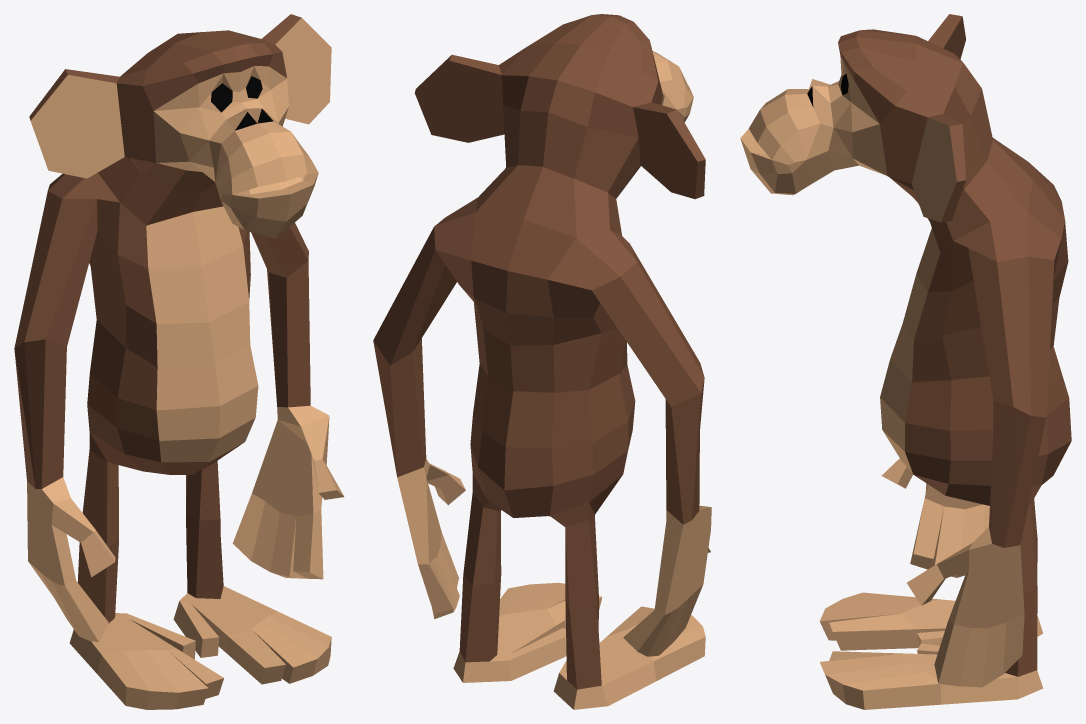
File: Monkey.fbx
3 views of the same model, side by side, from view 1: azimuth 30°, elevation 25°; view 2: azimuth 150°, elevation 25°; view 3: azimuth 270°, elevation 25° (orthographic). The views are drawn at different scales.
Visible parts, largest first — view 1: Monkey; view 2: Monkey; view 3: Monkey.
Boxes of the visible parts, x1,y1,x2,y2 form: Monkey: (14,14,344,709); Monkey: (373,14,711,709); Monkey: (740,14,1071,709).
Size of the model in its own units: 33.01 by 64.12 by 30.86.
